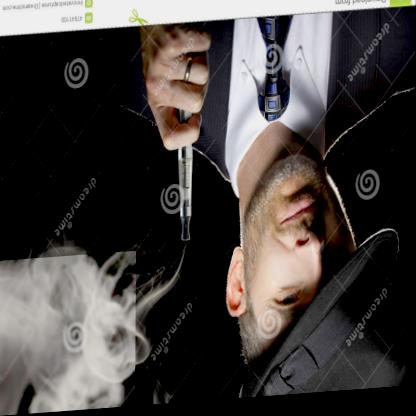smoke: (0, 253, 136, 416)
